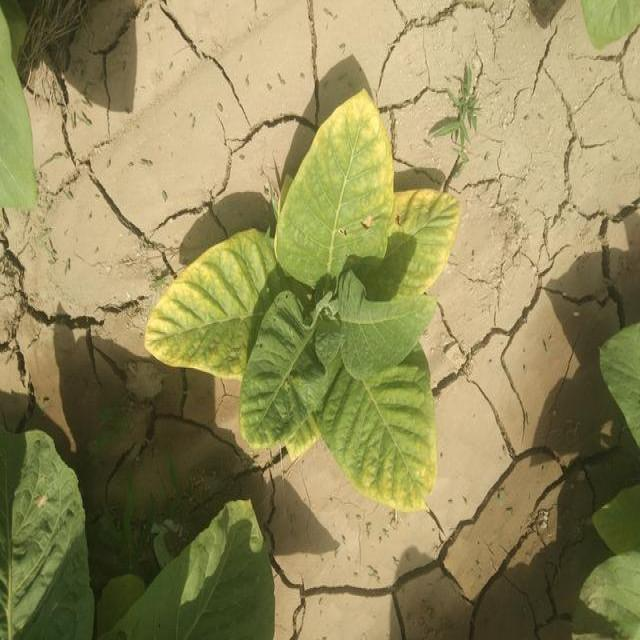crop: (150, 108, 458, 519), (116, 499, 272, 640), (0, 437, 96, 640), (0, 4, 40, 210), (579, 511, 640, 640), (590, 316, 640, 456), (606, 0, 640, 49)
